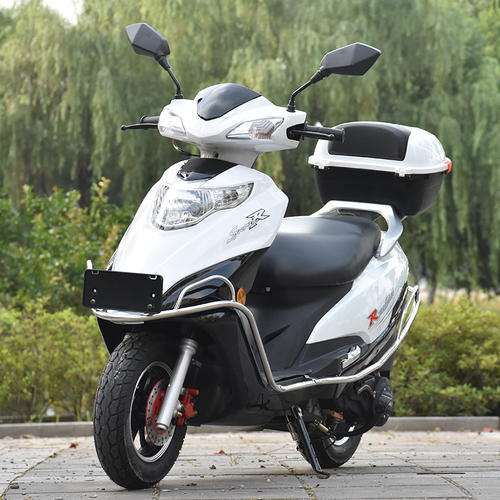motor: (60, 40, 439, 481)
